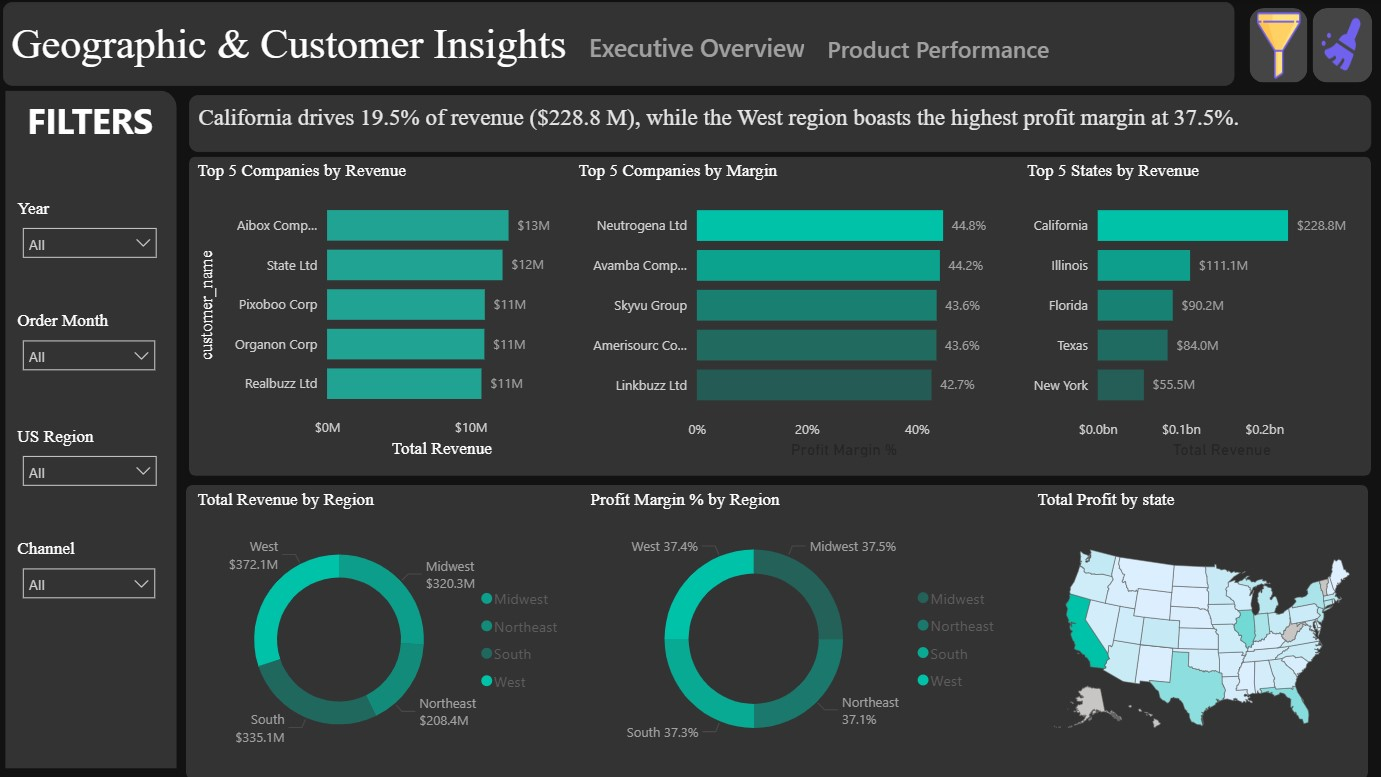

The page's visual inventory and layout, read from the dashboard file:
{"tool":"powerbi","page":{"name":"Geographic & Customer Insights","canvas":[1280,720],"ordinal":2},"visuals":[{"type":"barChart","title":"Top 5 States by Revenue","fields":{"Category":["Sales_data.state_name"],"Y":["Measures_.Total Revenue"]},"box":[945.4,190,323.1,251.2],"z":0},{"type":"actionButton","box":[37,215,49,105],"z":0,"group":"g1"},{"type":"actionButton","box":[36.7,323.3,49,105],"z":1000,"group":"g1"},{"type":"donutChart","title":"Total Revenue by Region","fields":{"Category":["Sales_data.us_region"],"Y":["Measures_.Total Revenue"]},"box":[174.6,448.9,356.9,262],"z":1000},{"type":"barChart","title":"Top 5 Companies by Margin","fields":{"Category":["Sales_data.customer_name"],"Y":["Measures_.Profit Margin %"]},"box":[537,190,403.4,251.2],"z":2000},{"type":"donutChart","title":"Profit Margin % by Region","fields":{"Category":["Sales_data.us_region"],"Y":["Measures_.Profit Margin %"]},"box":[537.7,448.9,402.9,262],"z":3000},{"type":"barChart","title":"Top 5 Companies by Revenue","fields":{"Category":["Sales_data.customer_name"],"Y":["Measures_.Total Revenue"]},"box":[174.6,190,357.6,251.2],"z":4000},{"type":"actionButton","box":[1214.9,7.7,55.1,68.9],"z":6000,"group":"g3"},{"type":"group","id":"g1","title":"top 5 button","box":[36.7,215,48.3,213.3],"z":6000},{"type":"actionButton","box":[1156.6,7.7,53.6,68.9],"z":7000,"group":"g3"},{"type":"shapeMap","fields":{"Category":["Sales_data.state"],"Value":["Measures_.Total Profit"]},"box":[945.2,448.9,323.2,262],"z":7000},{"type":"actionButton","box":[575,4.5,235.9,76.6],"z":10000,"group":"g3"},{"type":"textbox","title":"Top Text","box":[174.6,88.9,1093.8,93.4],"z":10000},{"type":"actionButton","box":[2.1,3,566.8,76.6],"z":11000,"group":"g3"},{"type":"shape","box":[6.1,82.7,162.4,628.1],"z":11000},{"type":"actionButton","box":[817.1,4.5,334,76.6],"z":12000,"group":"g3"},{"type":"group","id":"g2","title":"Group 1","box":[16.9,182.3,137.9,386],"z":12000},{"type":"textbox","box":[16.9,84.3,137.9,72],"z":13000},{"type":"group","id":"g3","title":"Group 2","box":[2.1,3,1267.9,78.1],"z":14000},{"type":"slicer","title":"Year","fields":{"Values":["Sales_data.year"]},"box":[16.9,182.3,137.9,68.9],"z":21500,"group":"g2"},{"type":"slicer","title":"Channel","fields":{"Values":["Sales_data.channel"]},"box":[16.9,496.3,136.4,72],"z":22000,"group":"g2"},{"type":"slicer","title":"Order Month","fields":{"Values":["Sales_data.order_month_name"]},"box":[16.9,286.5,136.4,72],"z":22250,"group":"g2"},{"type":"slicer","title":"US Region","fields":{"Values":["Sales_data.us_region"]},"box":[16.9,392.2,137.9,72],"z":22500,"group":"g2"}]}

Visuals, with their boxes in screenshot pixels (x1, y1, x2, y2), scaled from the page's 1280x720 canvas onto the 1381x777 screenshot:
"Top 5 States by Revenue" barChart: [1020,205,1369,476]
actionButton: [40,232,93,345]
actionButton: [40,349,92,462]
"Total Revenue by Region" donutChart: [188,484,573,767]
"Top 5 Companies by Margin" barChart: [579,205,1015,476]
"Profit Margin % by Region" donutChart: [580,484,1015,767]
"Top 5 Companies by Revenue" barChart: [188,205,574,476]
actionButton: [1311,8,1370,83]
"top 5 button" group: [40,232,92,462]
actionButton: [1248,8,1306,83]
shapeMap - Sales_data.state x Measures_.Total Profit: [1020,484,1368,767]
actionButton: [620,5,875,88]
"Top Text" textbox: [188,96,1368,197]
actionButton: [2,3,614,86]
shape: [7,89,182,767]
actionButton: [882,5,1242,88]
"Group 1" group: [18,197,167,613]
textbox: [18,91,167,169]
"Group 2" group: [2,3,1370,88]
"Year" slicer: [18,197,167,271]
"Channel" slicer: [18,536,165,613]
"Order Month" slicer: [18,309,165,387]
"US Region" slicer: [18,423,167,501]
